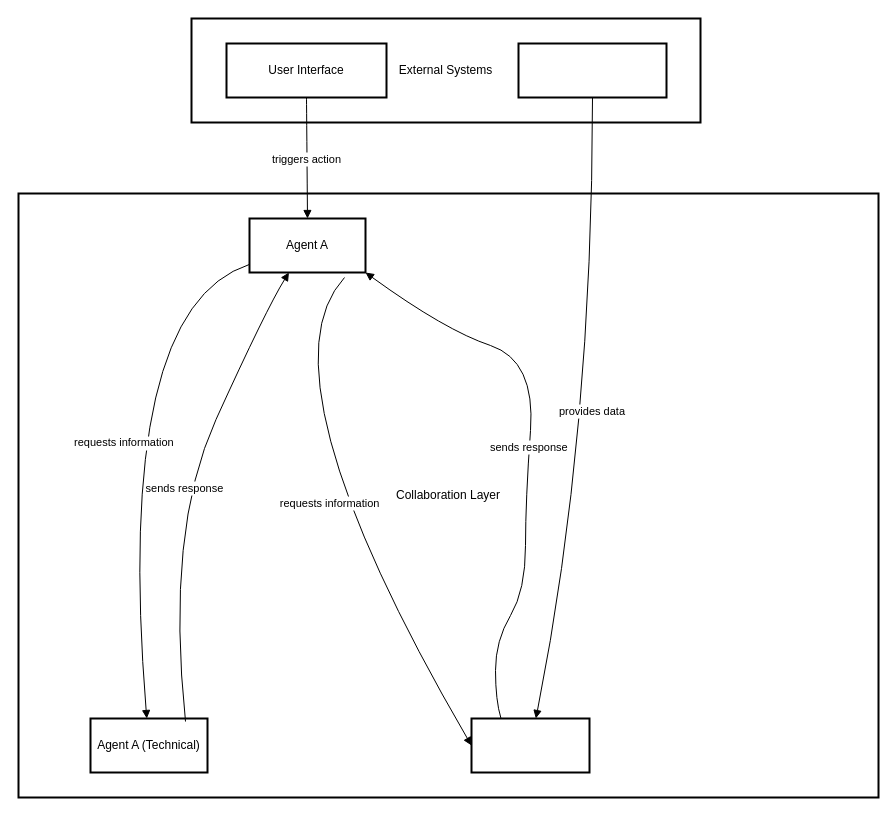
Some shapes in this 896 by 815 pixel diagram are drawn without their labels. Each missing label, with the box of its shape:
Agent C (Fundamental): (470, 717, 590, 773)
External API: (517, 42, 667, 98)
